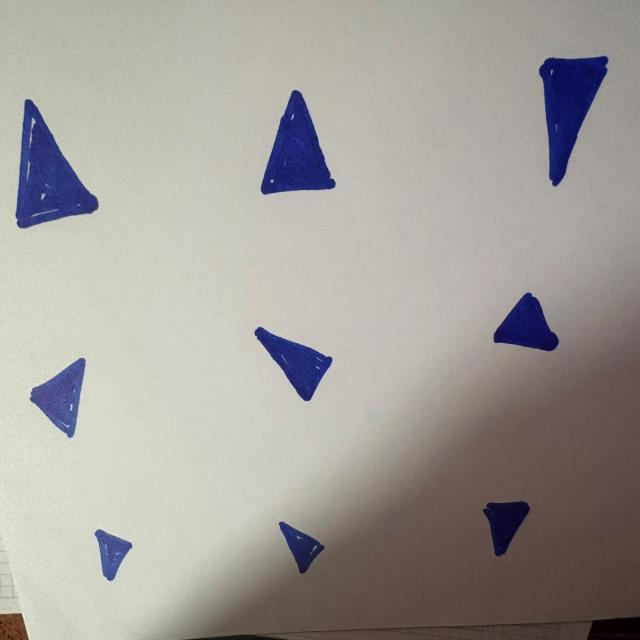Triangle: (16, 100, 98, 228), (539, 56, 608, 186), (261, 90, 335, 194), (255, 327, 332, 401), (30, 358, 85, 437), (493, 292, 559, 351), (483, 501, 530, 556), (279, 522, 324, 573), (94, 529, 132, 580)
